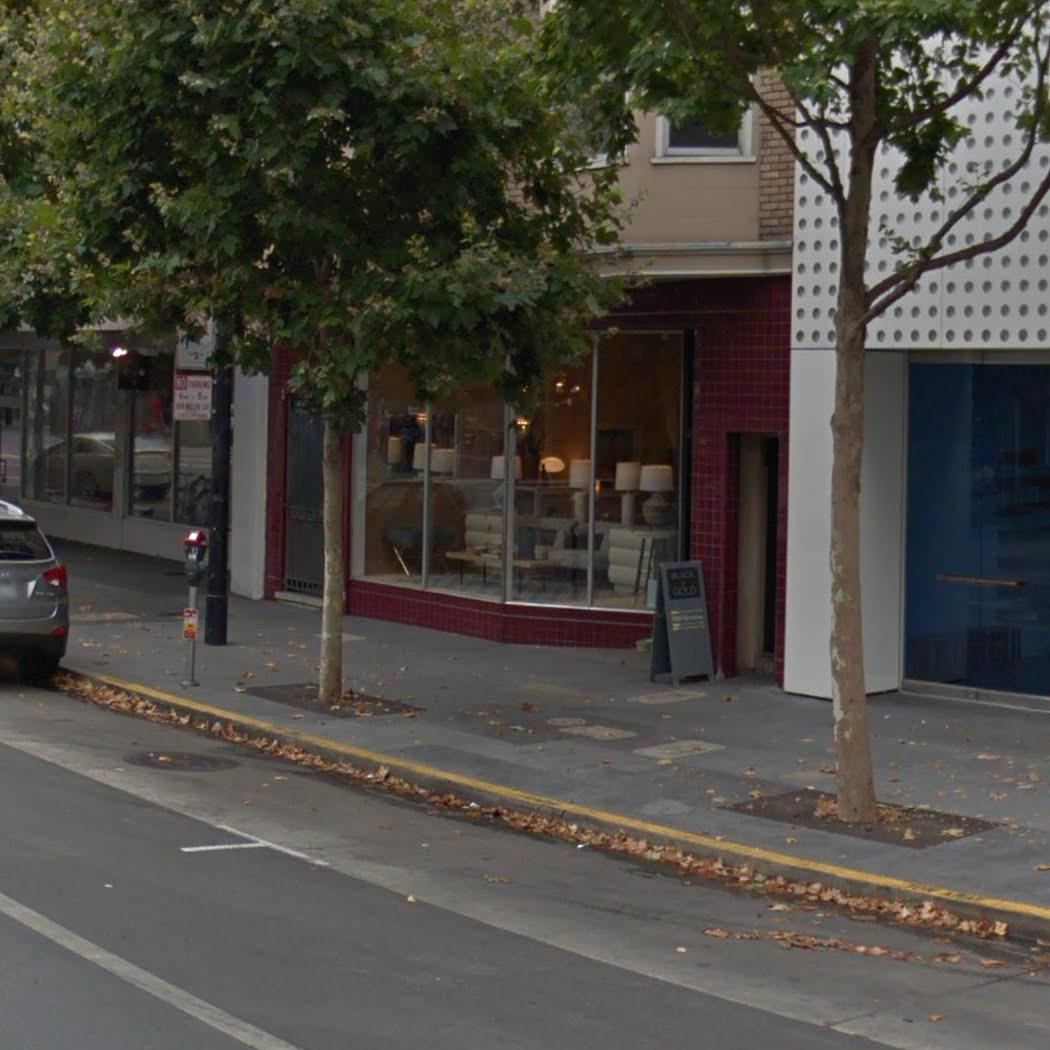No Parking: (172, 373, 214, 423)
